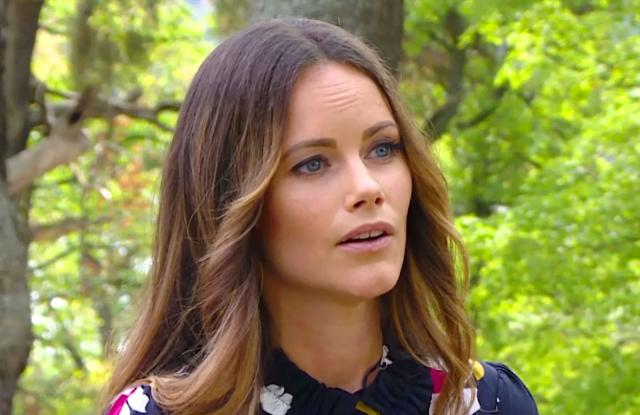forehead: (324, 82, 356, 112)
